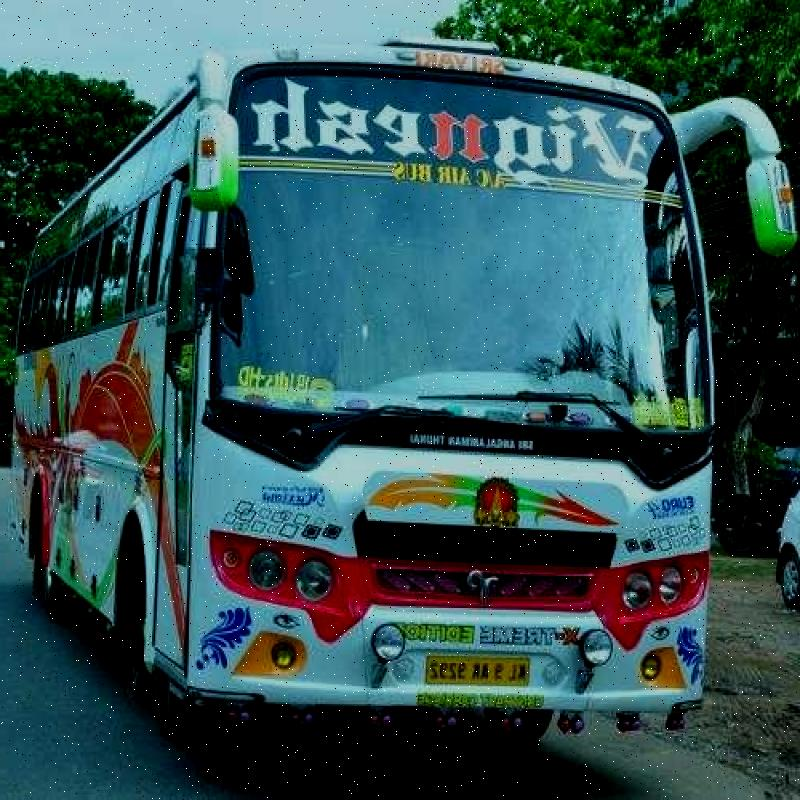bus: (16, 34, 779, 722)
